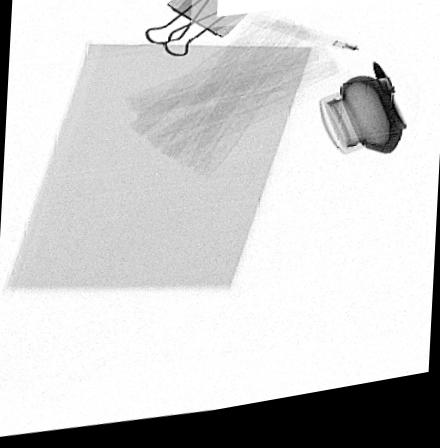Bullet: (372, 73, 395, 108)
